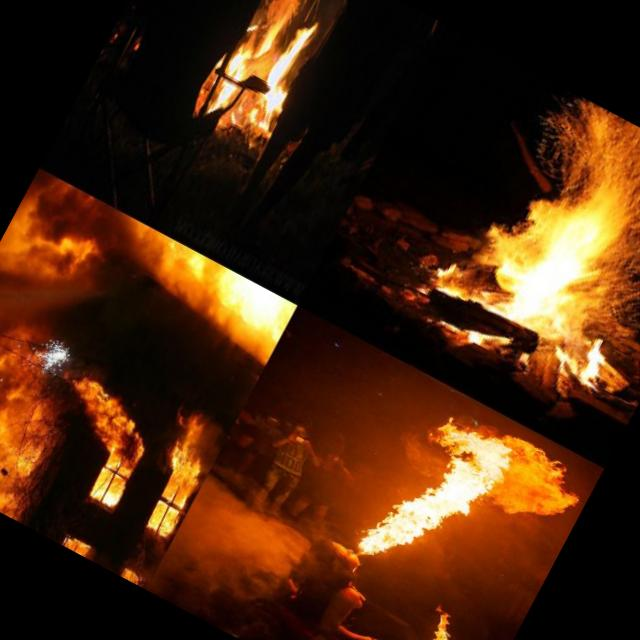fire: (414, 74, 640, 419), (346, 384, 588, 628), (197, 0, 328, 148), (55, 369, 167, 484), (0, 395, 54, 513), (150, 419, 222, 506), (403, 598, 475, 640), (61, 532, 92, 558)
smoke: (0, 167, 170, 354), (0, 286, 49, 491)
